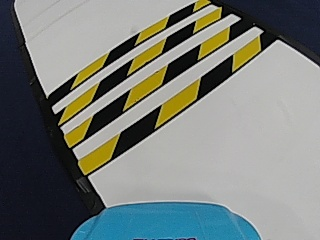bump: (54, 15, 237, 134)
